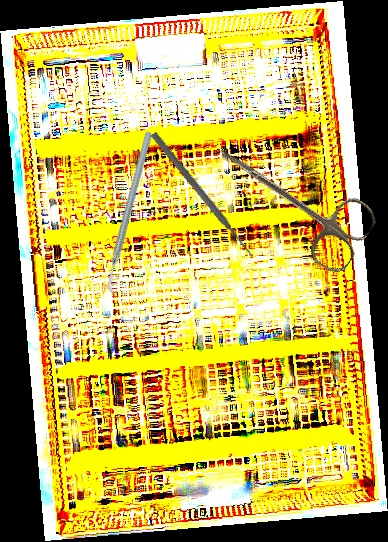Chopper: (51, 129, 210, 300)
Iris Scissors: (197, 122, 382, 278)
Pusher: (149, 130, 256, 260)
